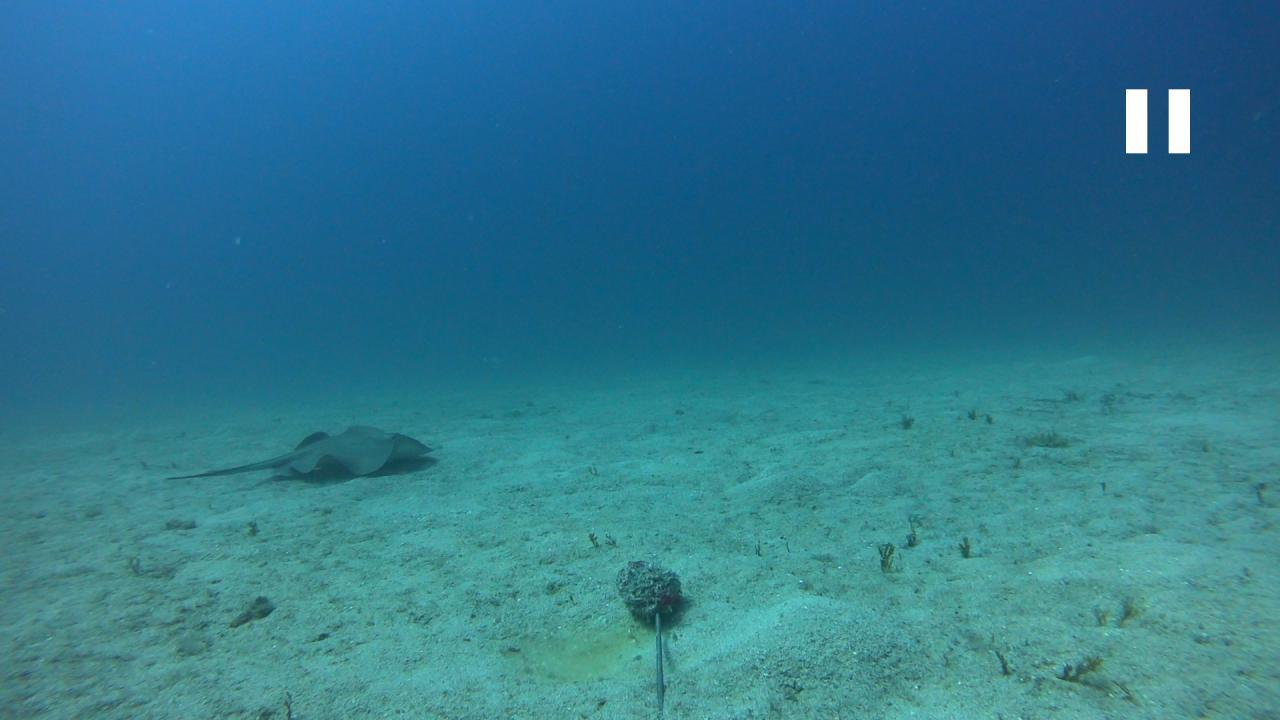dasyatis: (164, 422, 446, 482)
